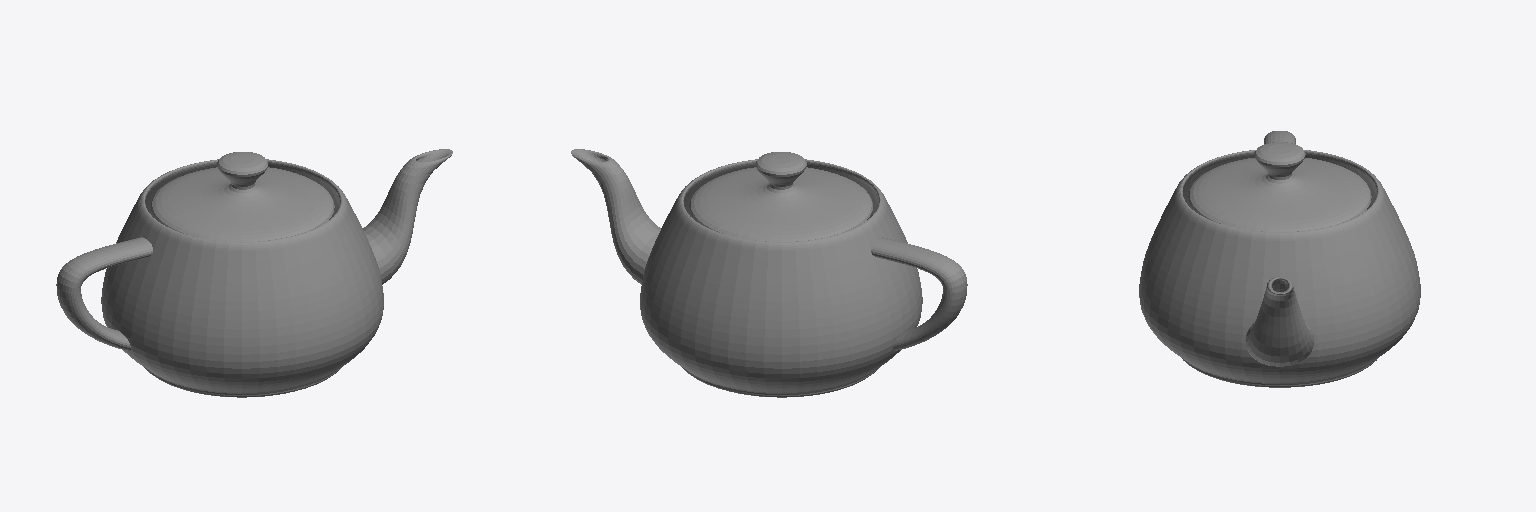
File: teapot.obj
3 views of the same model, side by side, from view 1: azimuth 30°, elevation 25°; view 2: azimuth 150°, elevation 25°; view 3: azimuth 270°, elevation 25° (orthographic).
Parts seen in each view (by area): view 1: Teapot001; view 2: Teapot001; view 3: Teapot001.
Part boxes in pixels (x1,y1,x2,y2): Teapot001: (56,149,452,397); Teapot001: (571,149,967,397); Teapot001: (1139,131,1420,387).
Size of the model in its own units: 3.22 by 1.57 by 2.